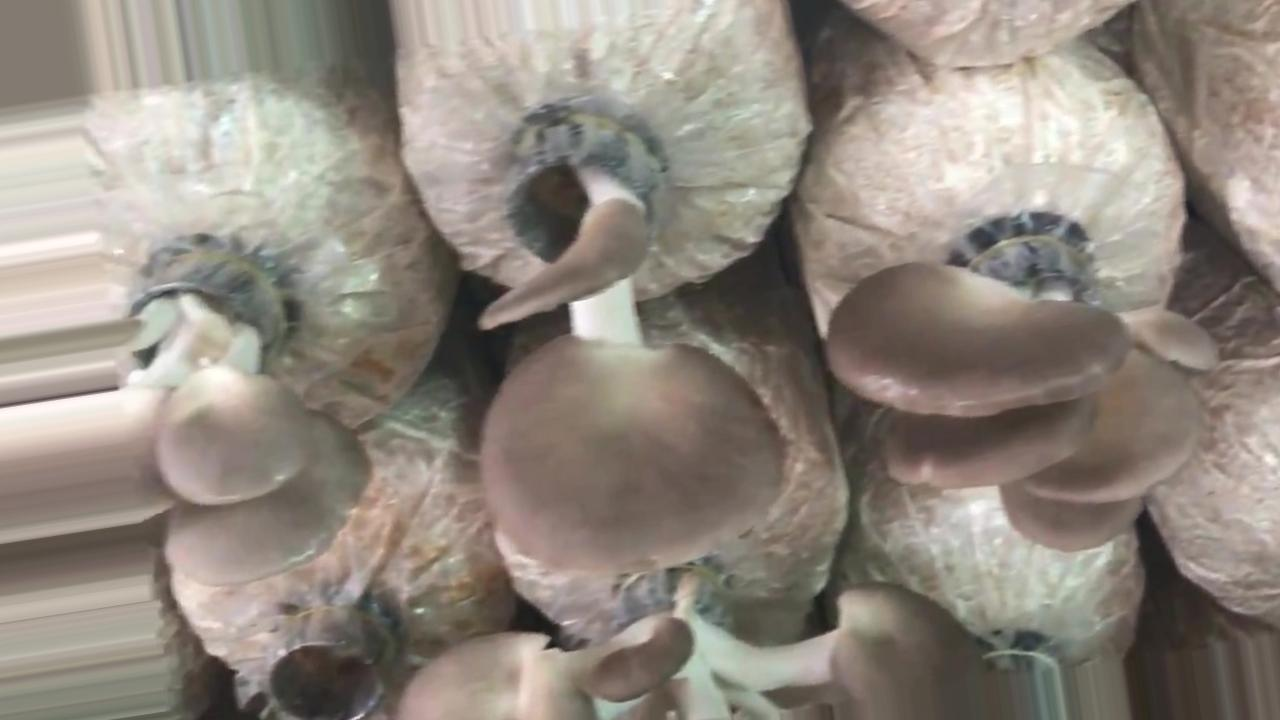nam: (482, 110, 788, 574), (820, 225, 1230, 556), (400, 582, 1024, 720), (134, 232, 374, 585)
